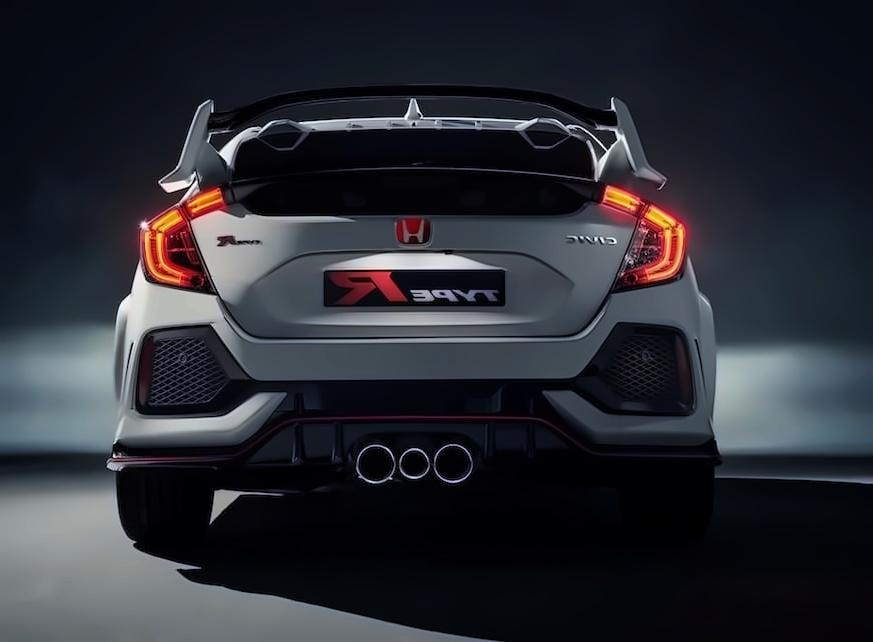Car boot: (176, 166, 630, 344)
Rear bumper: (103, 266, 719, 503)
Rear light - -L-: (138, 182, 231, 299)
Rear light - -R-: (593, 185, 688, 299)
